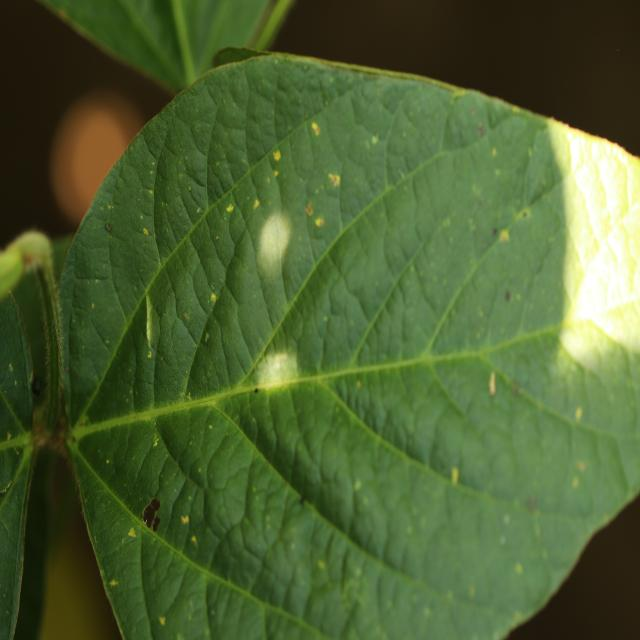Soybean: (0, 52, 640, 640)
downey_mildew: (61, 330, 605, 630), (161, 101, 395, 545), (286, 1, 634, 177), (357, 118, 566, 378), (102, 340, 571, 439), (0, 4, 168, 265), (406, 341, 636, 524), (498, 107, 639, 400), (147, 404, 320, 623), (257, 376, 437, 569), (68, 112, 175, 415), (392, 458, 568, 623), (239, 94, 350, 341), (142, 110, 235, 403), (0, 238, 63, 636), (209, 46, 589, 106), (287, 184, 387, 387), (238, 486, 372, 634), (69, 441, 159, 640), (359, 224, 459, 366), (418, 321, 615, 391), (498, 517, 613, 628), (395, 348, 504, 460), (74, 408, 180, 520), (268, 149, 356, 279), (248, 205, 307, 385), (266, 61, 366, 165), (284, 347, 505, 392), (106, 149, 161, 327), (215, 226, 279, 378), (161, 396, 253, 498), (325, 358, 418, 457), (178, 4, 290, 86), (341, 94, 418, 210), (76, 392, 243, 441), (134, 524, 202, 637), (178, 290, 243, 407), (56, 219, 94, 419), (0, 433, 35, 638), (104, 3, 191, 83), (155, 241, 213, 360), (0, 278, 36, 465), (572, 137, 637, 238), (575, 237, 638, 338), (487, 494, 552, 590), (440, 91, 529, 159), (31, 251, 64, 433), (160, 466, 212, 574), (561, 315, 637, 387), (73, 469, 112, 604), (3, 402, 71, 472), (297, 141, 346, 238), (471, 190, 543, 255), (150, 166, 207, 243), (1, 230, 55, 311), (204, 576, 270, 638), (130, 292, 161, 419), (521, 124, 563, 210), (223, 367, 324, 402), (247, 2, 301, 59), (167, 4, 200, 88), (248, 341, 300, 393), (205, 433, 247, 492), (256, 209, 293, 268), (0, 423, 27, 500), (46, 234, 75, 302), (123, 183, 158, 239), (233, 519, 271, 569), (40, 299, 56, 402), (136, 514, 148, 637), (211, 46, 272, 68), (1, 244, 25, 299), (337, 596, 364, 640), (341, 571, 365, 607), (1, 430, 34, 456), (145, 298, 161, 351), (451, 89, 469, 101), (526, 495, 538, 513), (0, 480, 14, 495), (328, 172, 340, 188), (499, 228, 510, 243), (512, 382, 522, 398), (477, 123, 486, 136), (442, 217, 451, 229), (423, 606, 432, 618), (504, 290, 511, 302), (354, 479, 361, 491), (499, 534, 506, 546), (371, 134, 378, 145), (491, 227, 498, 237), (491, 147, 497, 157), (299, 496, 305, 506), (470, 107, 476, 116), (178, 172, 184, 180), (196, 207, 201, 214), (105, 338, 110, 344), (208, 424, 213, 429), (188, 185, 192, 191), (151, 160, 155, 166), (140, 214, 143, 219)
